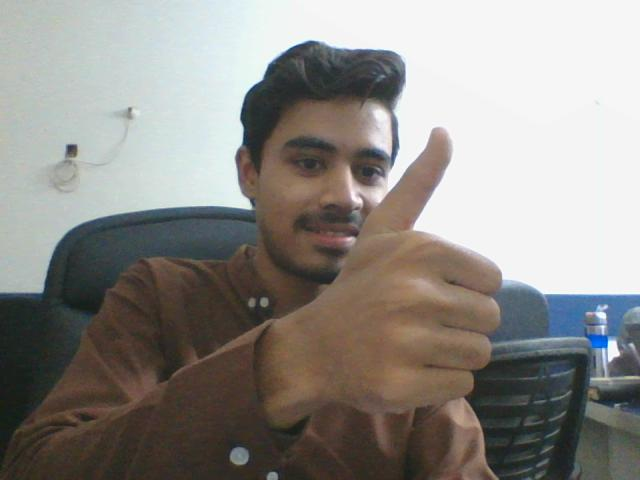thumbs-up: (349, 120, 503, 419)
